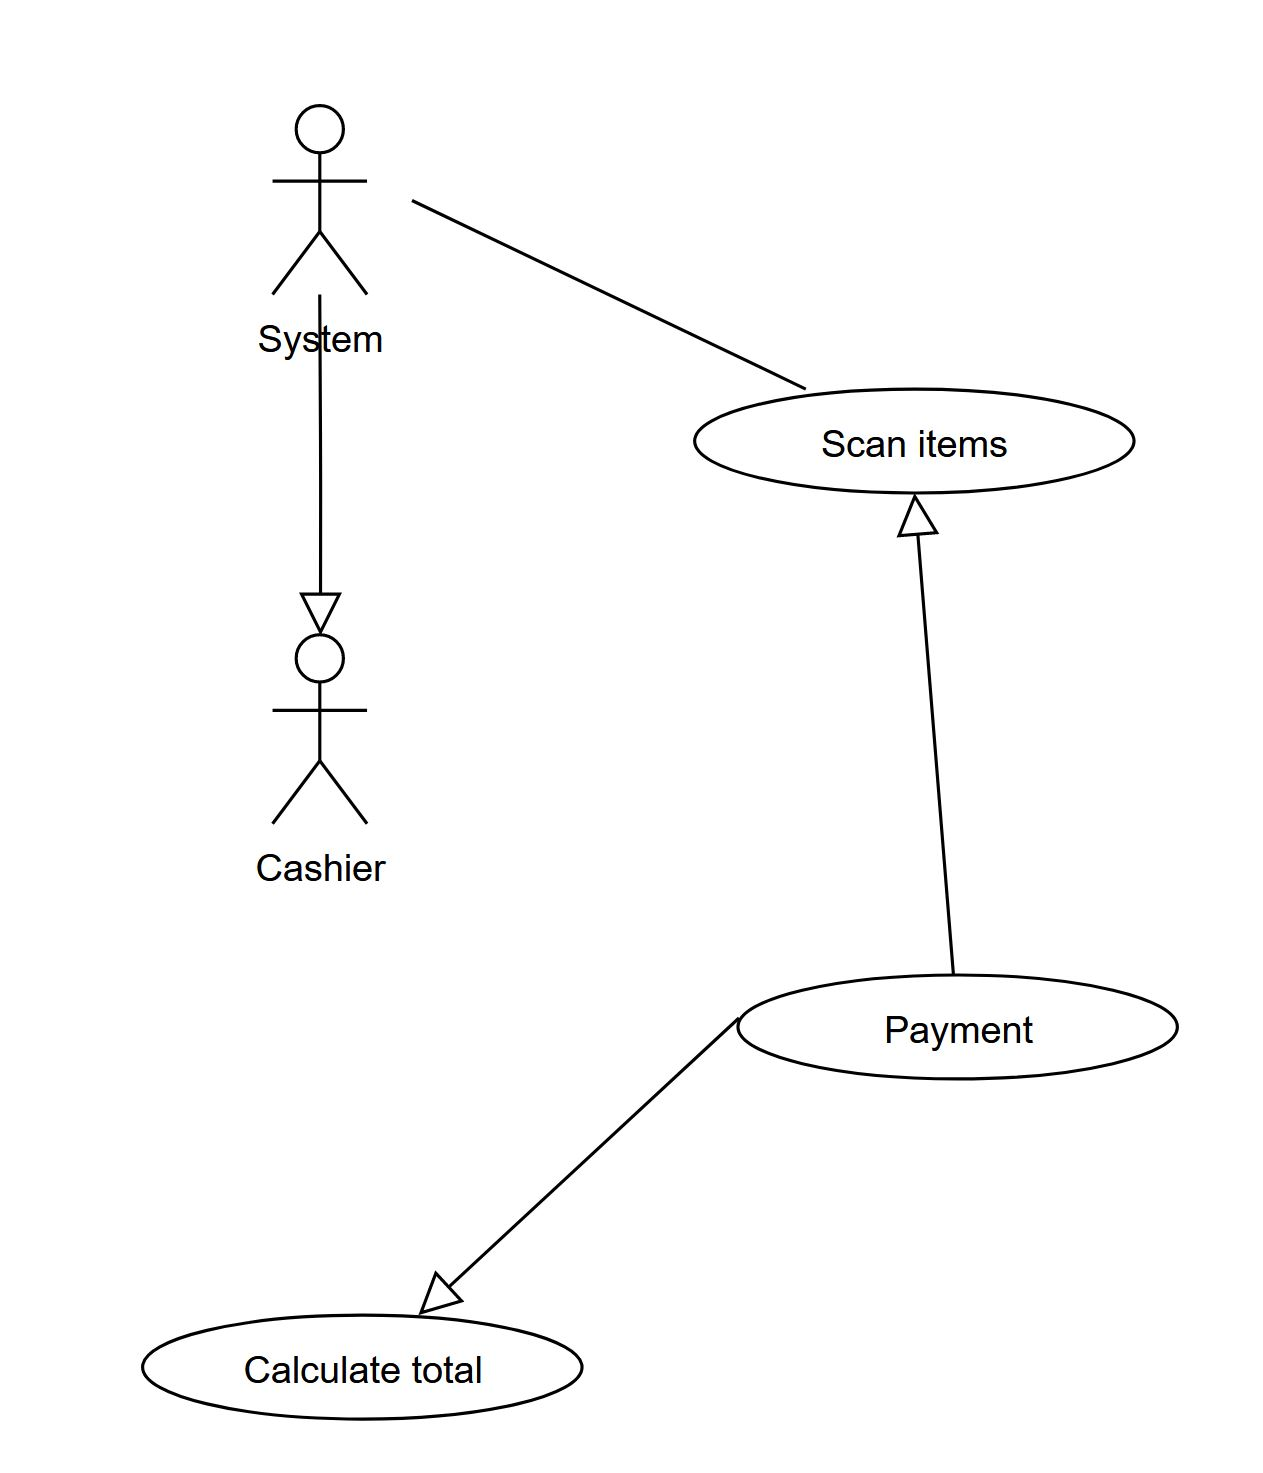actor: (263, 630, 383, 830), (266, 99, 365, 301)
association: (391, 185, 809, 392)
generalization: (418, 1012, 743, 1316), (890, 494, 967, 968), (299, 301, 350, 631)
text: (817, 412, 1026, 477), (249, 1348, 487, 1395), (885, 998, 1044, 1058), (241, 848, 401, 896), (259, 321, 400, 362)
use_case: (695, 383, 1136, 499), (139, 1311, 584, 1425), (734, 971, 1182, 1083)
